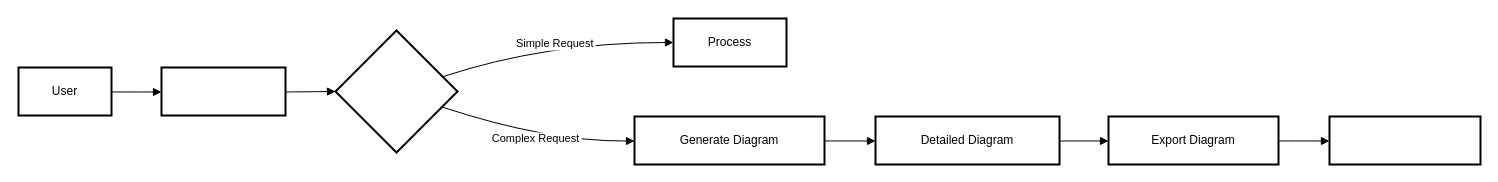
Some shapes in this 1498 by 182 pixel diagram are drawn without their labels. Each missing label, with the centre of its shape:
Assistant: the point at 223,91
Send to User: the point at 1404,140
User Input: the point at 396,91
